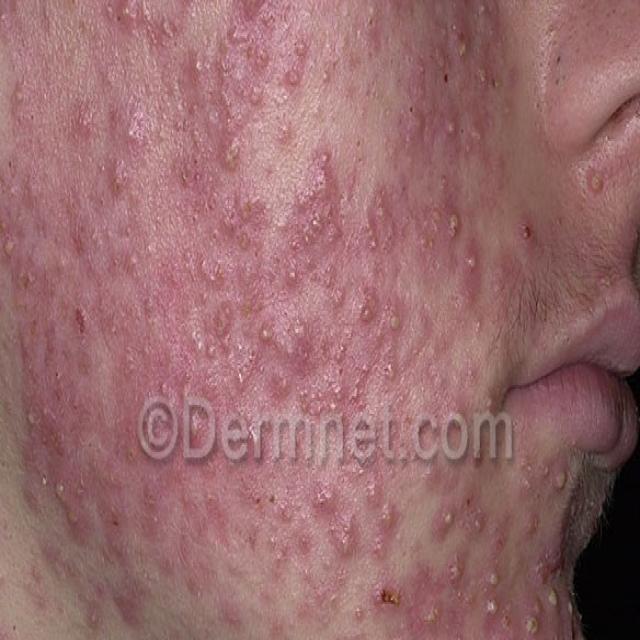Acne: (342, 412, 590, 640), (568, 145, 620, 217), (513, 212, 556, 294)
